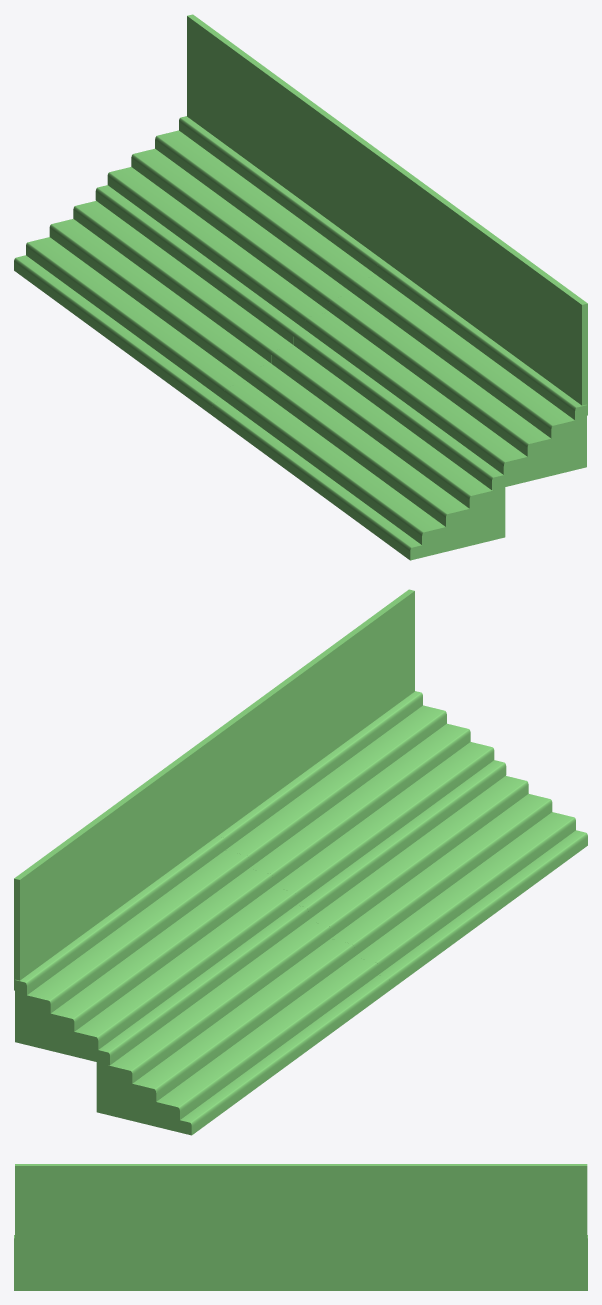
Rendered from stand.FBX.
3 views of the same model, one above another, from view 1: azimuth 30°, elevation 25°; view 2: azimuth 150°, elevation 25°; view 3: azimuth 270°, elevation 25° (orthographic). The views are drawn at different scales.
Parts seen in each view (by area): view 1: BackWall; view 2: BackWall; view 3: BackWall.
Boxes of the visible parts, x1=… form: BackWall: x1=14, y1=14, x2=587, y2=560; BackWall: x1=14, y1=589, x2=587, y2=1135; BackWall: x1=14, y1=1164, x2=587, y2=1290.
Bounding box in the file's own units: 591 × 675 × 2275.
